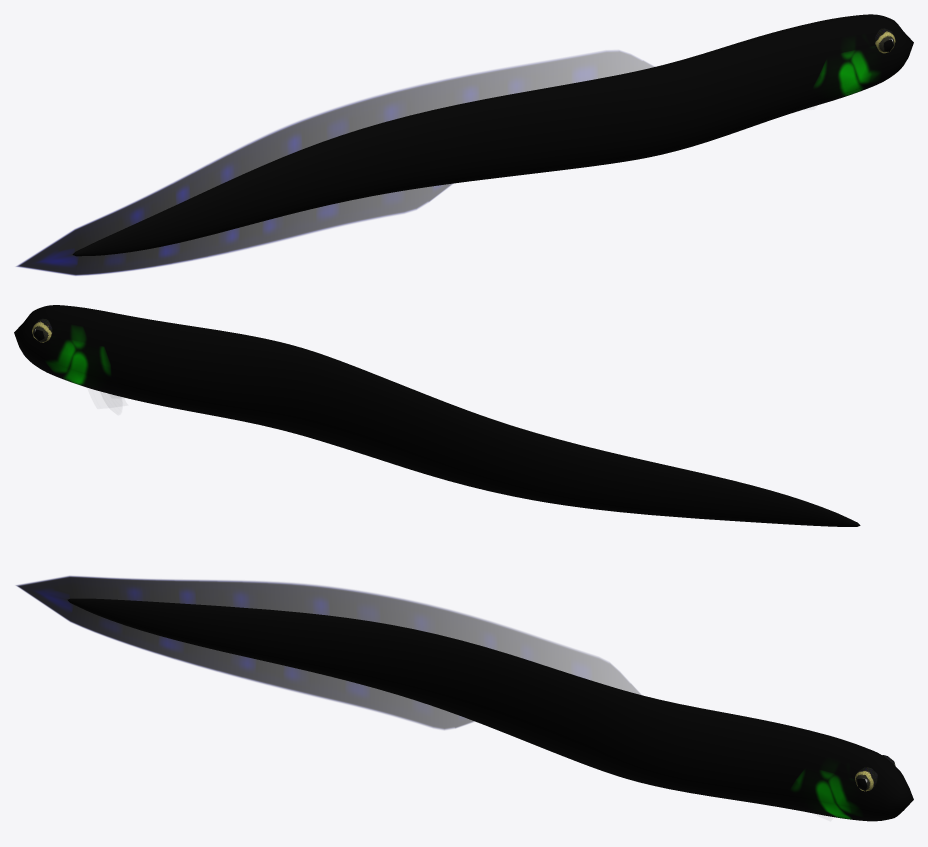
Rendered from engineer_goby_lod1.glb.
3 views of the same model, one above another, from view 1: azimuth 30°, elevation 25°; view 2: azimuth 150°, elevation 25°; view 3: azimuth 330°, elevation 25° (orthographic).
Visible parts, largest first — view 1: Body, FinDorsal; view 2: Body; view 3: Body, FinDorsal.
Part boxes in pixels (<box>): Body: <box>72,14,913,256</box>; FinDorsal: <box>16,50,654,275</box>; Body: <box>14,305,860,526</box>; Body: <box>67,598,913,821</box>; FinDorsal: <box>16,576,640,729</box>.
Size of the model in its own units: 1 by 0.1393 by 0.1147.
4 materials, 3 textured.
